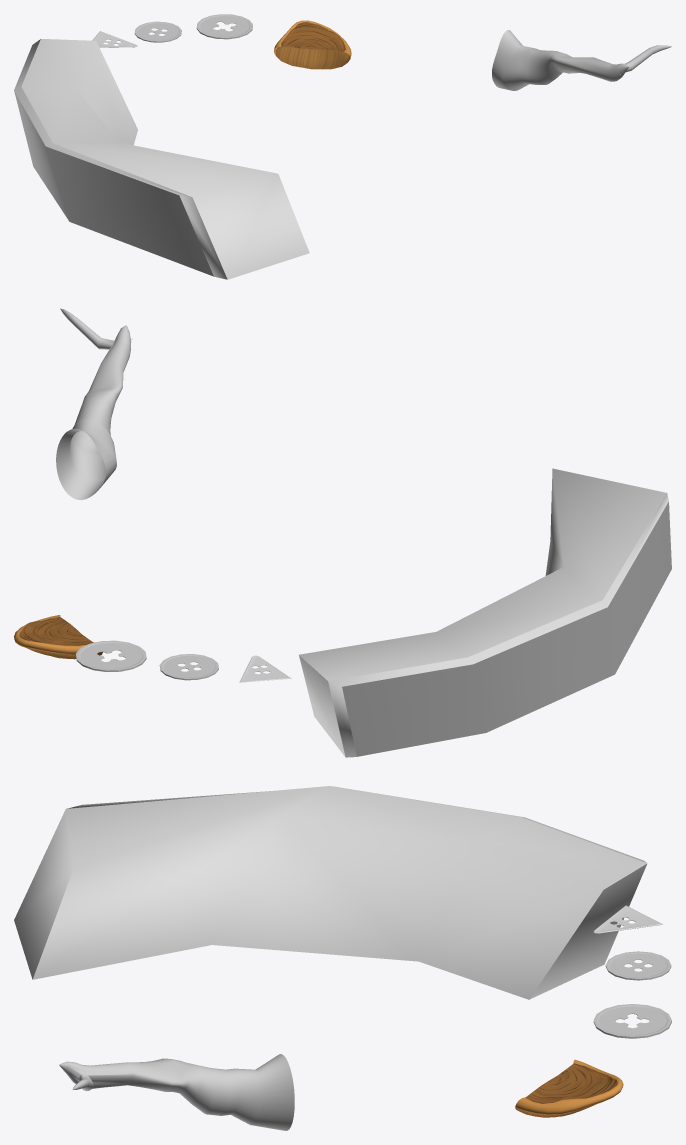
The model's file is PAKOUR2.fbx.
The picture shows the model from 3 angles, top to bottom: view 1: azimuth 30°, elevation 25°; view 2: azimuth 150°, elevation 25°; view 3: azimuth 270°, elevation 25°; orthographic projection. The views are drawn at different scales.
Visible parts, largest first — view 1: Cube.001, Plane.026, Circle.056, BUTTON6PUNT_low.001, BUTTON4PUNT_low.001, buttontri_low.001; view 2: Cube.001, Plane.026, Circle.056, BUTTON6PUNT_low.001, BUTTON4PUNT_low.001, buttontri_low.001; view 3: Cube.001, Plane.026, Circle.056, BUTTON6PUNT_low.001, BUTTON4PUNT_low.001, buttontri_low.001.
Boxes of the visible parts, x1,y1,x2,y2 form: Cube.001: (14,38,309,279); Plane.026: (492,30,671,90); Circle.056: (274,20,351,69); BUTTON6PUNT_low.001: (196,14,252,39); BUTTON4PUNT_low.001: (134,21,181,42); buttontri_low.001: (92,31,137,47); Cube.001: (299,468,671,757); Plane.026: (56,308,132,500); Circle.056: (14,615,102,659); BUTTON6PUNT_low.001: (76,640,146,671); BUTTON4PUNT_low.001: (159,654,218,680); buttontri_low.001: (239,655,291,682); Cube.001: (14,786,647,999); Plane.026: (59,1054,294,1130); Circle.056: (515,1059,623,1117); BUTTON6PUNT_low.001: (593,1004,671,1038); BUTTON4PUNT_low.001: (605,951,671,980); buttontri_low.001: (593,905,663,933).
Size of the model in its own units: 460 by 95.68 by 358.
